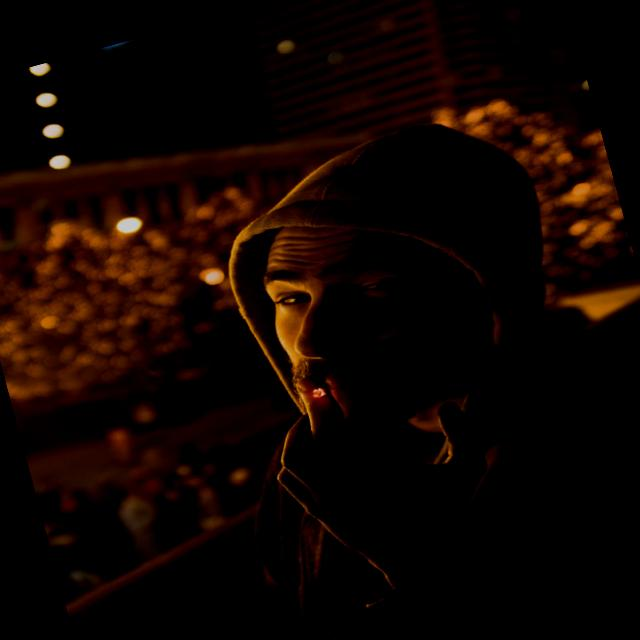cigarette: (295, 371, 343, 410)
